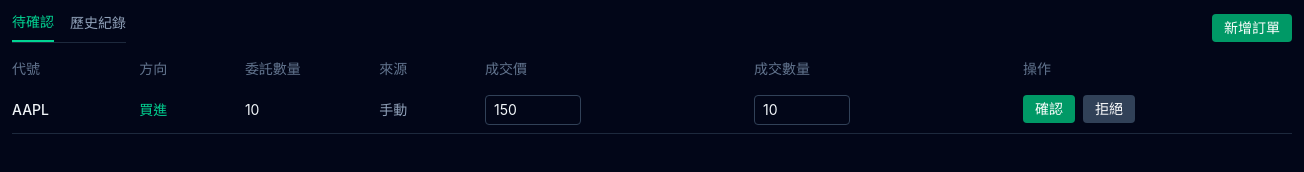
Test case: confirming a fill that came back smaller than the order › will not send a quantity larger than the order
Type "151.25" into the field named "成交價" at (533, 110), box [485,95,581,125]
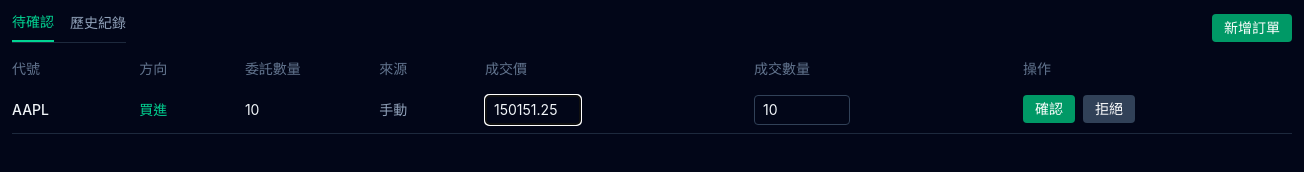
Clear the field named "成交數量" at (802, 110), box [754,95,850,125]
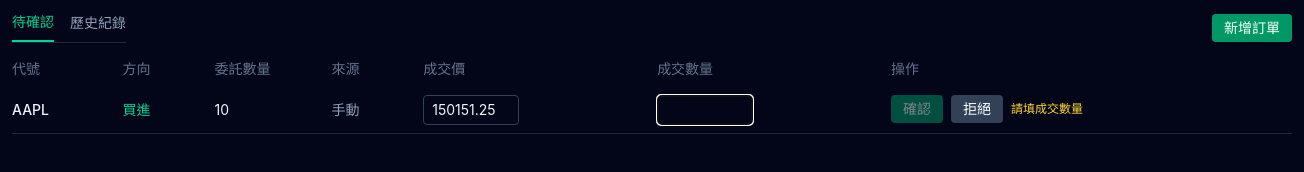
Type "11" into the field named "成交數量" at (705, 110), box [657,95,753,125]
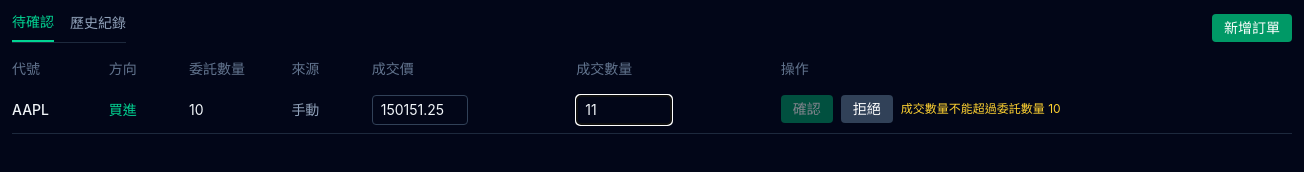
Now the button "確認" is disabled, box [781,95,833,123]
Now the message shows "不能超過委託數量", box [901,101,1061,116]
